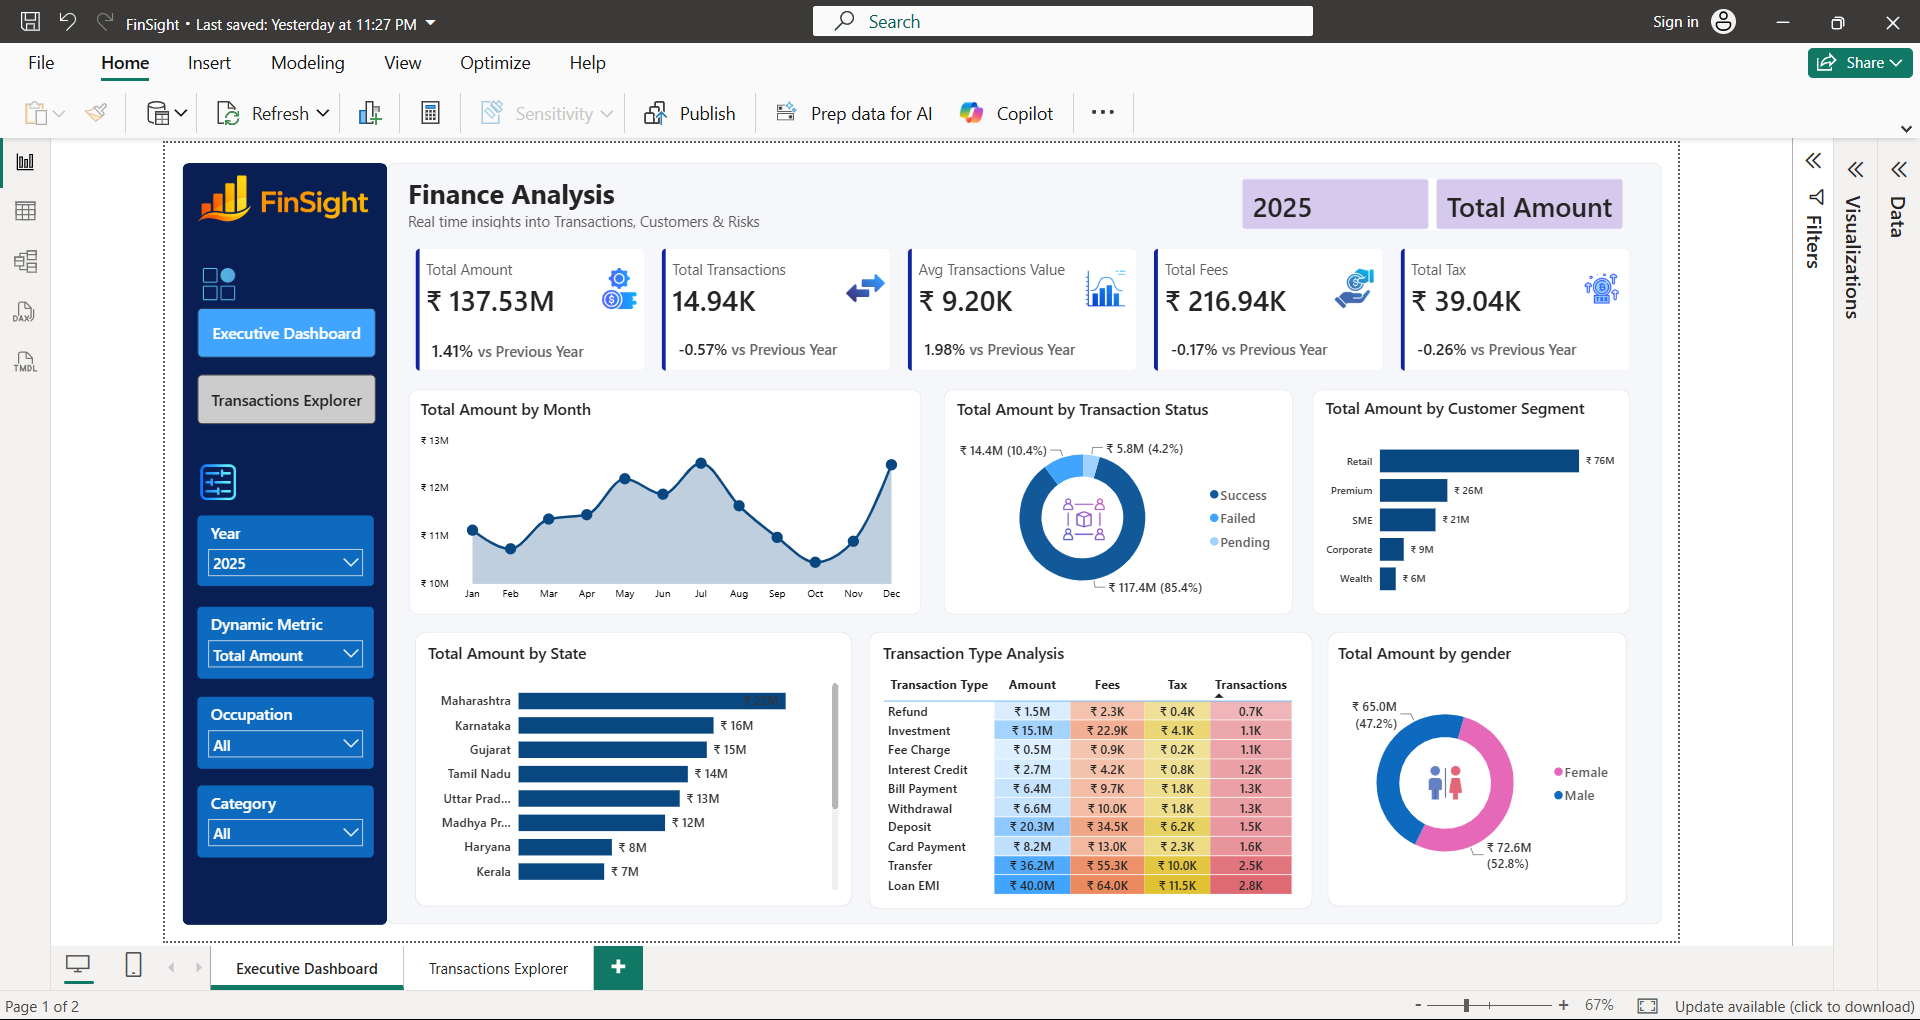

What the dashboard file says about the page in this screenshot:
{"tool":"powerbi","page":{"name":"Executive Dashboard","canvas":[1800,950],"ordinal":0},"visuals":[{"type":"shape","box":[21,24.2,243.6,906.8],"z":0},{"type":"shape","box":[264.9,24.5,1515.8,905.9],"z":1000},{"type":"image","box":[30.7,25.8,223.8,83],"z":2000},{"type":"cardVisual","fields":{"Data":["finance_transactions.Dashboard title"]},"box":[284.5,36,464.4,71.9],"z":3000},{"type":"cardVisual","fields":{"Data":["finance_transactions.Total Amt","finance_transactions.Total Transactions","finance_transactions.Avg Transactions Value","finance_transactions.Total Fees","finance_transactions.Total Tax"]},"box":[291.1,119.4,1458.8,158.2],"z":4000},{"type":"slicer","fields":{"Values":["Calendar Table.Year"]},"box":[39.4,442.7,209.7,83.9],"z":5000},{"type":"image","box":[516.7,148.8,49,49],"z":6000},{"type":"image","box":[809.4,148.8,49,48.2],"z":7000},{"type":"image","box":[1684.2,148.8,49,49],"z":8000},{"type":"image","box":[1093.9,148.8,49,49],"z":9000},{"type":"image","box":[1389.9,148.8,49,49],"z":10000},{"type":"slicer","fields":{"Values":["Dynamic Metric.Dynamic Metric"]},"box":[39.4,552.4,209.7,85.5],"z":11000},{"type":"shape","box":[289.4,292.7,609.9,268.2],"z":12000},{"type":"areaChart","fields":{"Y":["finance_transactions.Total Amount"],"Category":["Calendar Table.Month"]},"box":[298.5,303.3,588.7,250.2],"z":13000},{"type":"cardVisual","fields":{"Data":["finance_transactions.Selected Year","finance_transactions.Selected Dynamic Measure"]},"box":[1276.2,37.1,465.1,71.4],"z":14000},{"type":"shape","box":[927.1,292.7,415.3,268.2],"z":15000},{"type":"donutChart","fields":{"Y":["finance_transactions.Total Amount"],"Category":["finance_transactions.transaction_status"]},"box":[937.4,303.3,392.4,248.5],"z":16000},{"type":"shape","box":[1365.4,292.7,377.7,268.2],"z":17000},{"type":"barChart","fields":{"Y":["finance_transactions.Total Amount"],"Category":["customers.customer_segment"]},"box":[1376.3,301.7,354.8,250.2],"z":18000},{"type":"shape","box":[297.6,582.1,520,327],"z":19000},{"type":"barChart","fields":{"Y":["finance_transactions.Total Amount"],"Category":["customers.state"]},"box":[307.4,593.6,498.7,300.9],"z":20000},{"type":"shape","box":[837.2,582.1,528.2,330.3],"z":21000},{"type":"tableEx","title":"Transaction Type Analysis","fields":{"Values":["finance_transactions.transaction_type","finance_transactions.Total Amount","finance_transactions.Total Fees","finance_transactions.Total Tax","finance_transactions.Total Transactions"]},"box":[848.7,593.6,510.2,315.6],"z":22000},{"type":"shape","box":[1383.4,582.1,356.5,327],"z":23000},{"type":"donutChart","fields":{"Y":["finance_transactions.Total Amount"],"Category":["customers.gender"]},"box":[1390.8,593.8,340.4,300.1],"z":24000},{"type":"image","box":[1053.6,421.1,80.7,53.2],"z":25000},{"type":"image","box":[1500.5,729.3,45.8,65.4],"z":26000},{"type":"slicer","fields":{"Values":["customers.occupation"]},"box":[39.4,658.9,209.7,85.5],"z":27000},{"type":"slicer","fields":{"Values":["finance_transactions.merchant_category"]},"box":[39.4,763.8,209.7,85.5],"z":28000},{"type":"pageNavigator","box":[38.7,196.8,213,138.8],"z":29000},{"type":"image","box":[38.7,148.4,51.6,38.7],"z":30000},{"type":"image","box":[35.5,379.2,55.6,49.1],"z":31000}]}

Visuals, with their boxes on the page's 1800x950 design canvas (x1, y1, x2, y2). These are canvas units, not pixel positions in the 1920x1020 screenshot, which may show the page scaled, cropped or inside an application window:
shape: bbox(21, 24, 265, 931)
shape: bbox(265, 24, 1781, 930)
image: bbox(31, 26, 254, 109)
cardVisual - finance_transactions.Dashboard title: bbox(284, 36, 749, 108)
cardVisual - finance_transactions.Total Amt x finance_transactions.Total Transactions: bbox(291, 119, 1750, 278)
slicer - Calendar Table.Year: bbox(39, 443, 249, 527)
image: bbox(517, 149, 566, 198)
image: bbox(809, 149, 858, 197)
image: bbox(1684, 149, 1733, 198)
image: bbox(1094, 149, 1143, 198)
image: bbox(1390, 149, 1439, 198)
slicer - Dynamic Metric.Dynamic Metric: bbox(39, 552, 249, 638)
shape: bbox(289, 293, 899, 561)
areaChart - finance_transactions.Total Amount x Calendar Table.Month: bbox(298, 303, 887, 554)
cardVisual - finance_transactions.Selected Year x finance_transactions.Selected Dynamic Measure: bbox(1276, 37, 1741, 108)
shape: bbox(927, 293, 1342, 561)
donutChart - finance_transactions.Total Amount x finance_transactions.transaction_status: bbox(937, 303, 1330, 552)
shape: bbox(1365, 293, 1743, 561)
barChart - finance_transactions.Total Amount x customers.customer_segment: bbox(1376, 302, 1731, 552)
shape: bbox(298, 582, 818, 909)
barChart - finance_transactions.Total Amount x customers.state: bbox(307, 594, 806, 894)
shape: bbox(837, 582, 1365, 912)
"Transaction Type Analysis" tableEx: bbox(849, 594, 1359, 909)
shape: bbox(1383, 582, 1740, 909)
donutChart - finance_transactions.Total Amount x customers.gender: bbox(1391, 594, 1731, 894)
image: bbox(1054, 421, 1134, 474)
image: bbox(1500, 729, 1546, 795)
slicer - customers.occupation: bbox(39, 659, 249, 744)
slicer - finance_transactions.merchant_category: bbox(39, 764, 249, 849)
pageNavigator: bbox(39, 197, 252, 336)
image: bbox(39, 148, 90, 187)
image: bbox(36, 379, 91, 428)
